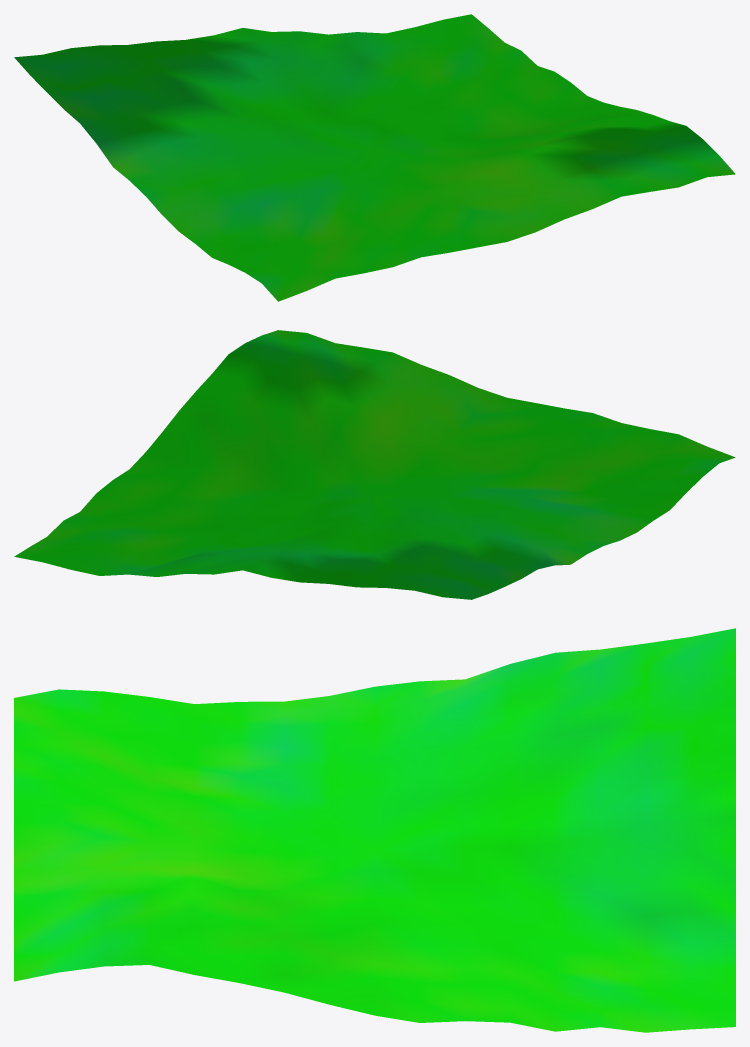
Rendered from lkol2.dae.
3 renders of one model, top to bottom at view 1: azimuth 30°, elevation 25°; view 2: azimuth 150°, elevation 25°; view 3: azimuth 270°, elevation 25°, orthographic. The views are drawn at different scales.
Visible parts, largest first — view 1: Terrain; view 2: Terrain; view 3: Terrain.
Boxes of the visible parts, x1,y1,x2,y2 form: Terrain: (14, 14, 735, 301); Terrain: (14, 330, 735, 599); Terrain: (14, 628, 735, 1032).
Bounding box in the file's own units: 64 × 9.72 × 64.
